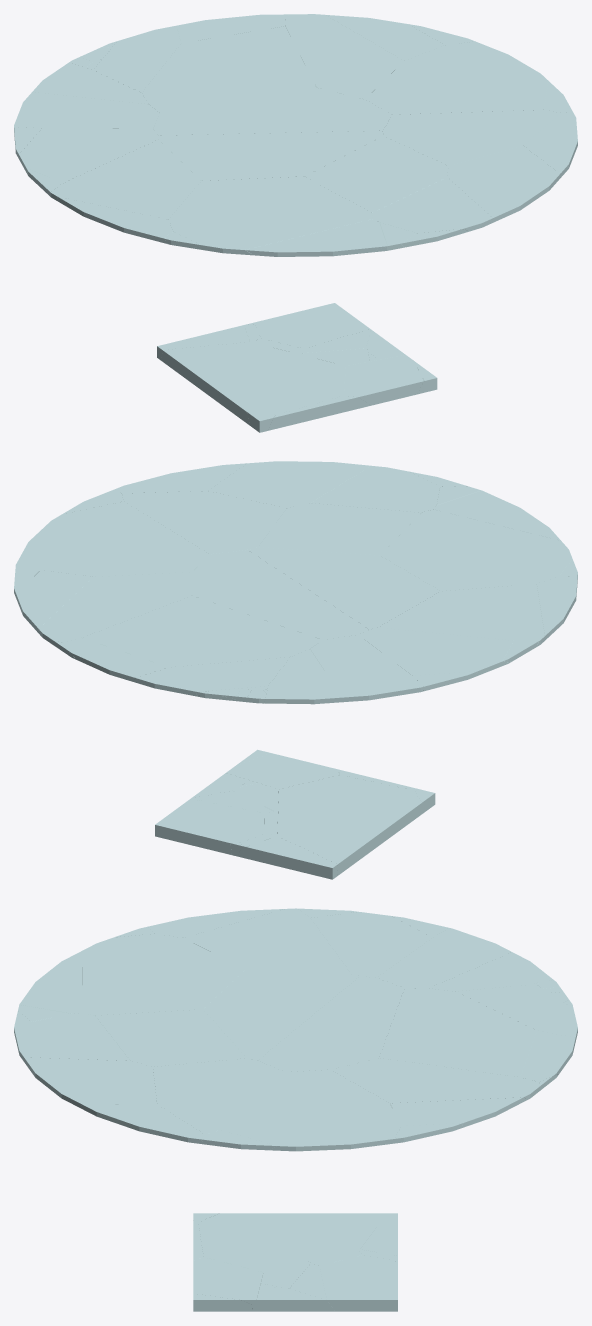
Rendered from Field ground glass  ver3.1.fbx.
3 renders of one model, top to bottom at view 1: azimuth 30°, elevation 25°; view 2: azimuth 150°, elevation 25°; view 3: azimuth 270°, elevation 25°, orthographic.
Visible parts, largest first — view 1: Object_cell.014, Object_cell.019, Object_cell.006, Cylinder.016_cell.006_cell.349, Object_cell, Object_cell.003, Object_cell.015, Object_cell.024, Object_cell.005, Object_cell.009, Object_cell.021, Object_cell.016 (+19 smaller); view 2: Object_cell.014, Object_cell.019, Object_cell.006, Cylinder.016_cell.006_cell.349, Object_cell, Object_cell.003, Object_cell.015, Object_cell.024, Object_cell.005, Object_cell.009, Object_cell.016, Object_cell.021 (+17 smaller); view 3: Object_cell.014, Object_cell.006, Object_cell.019, Cylinder.016_cell.006_cell.349, Object_cell, Object_cell.003, Object_cell.015, Object_cell.024, Object_cell.005, Object_cell.009, Object_cell.021, Object_cell.016 (+18 smaller).
Boxes of the visible parts, x1,y1,x2,y2 form: Object_cell.014: (168, 176, 372, 255); Object_cell.019: (142, 26, 316, 113); Object_cell.006: (365, 41, 548, 114); Cylinder.016_cell.006_cell.349: (161, 342, 345, 425); Object_cell: (153, 87, 391, 135); Object_cell.003: (158, 130, 383, 180); Object_cell.015: (48, 139, 200, 219); Object_cell.024: (382, 110, 560, 165); Object_cell.005: (285, 14, 403, 99); Object_cell.009: (305, 136, 448, 212); Object_cell.021: (447, 146, 560, 223); Object_cell.016: (18, 128, 158, 182); Object_cell.014: (380, 509, 572, 591); Object_cell.019: (82, 595, 322, 667); Object_cell.006: (18, 501, 209, 576); Cylinder.016_cell.006_cell.349: (277, 775, 426, 876); Object_cell: (192, 550, 369, 639); Object_cell.003: (248, 547, 440, 629); Object_cell.015: (378, 584, 545, 646); Object_cell.024: (122, 491, 286, 554); Object_cell.005: (39, 572, 192, 644); Object_cell.009: (258, 503, 421, 555); Object_cell.016: (358, 627, 513, 676); Object_cell.021: (208, 461, 371, 507); Object_cell.014: (82, 933, 245, 1015); Object_cell.006: (220, 1069, 401, 1151); Object_cell.019: (379, 988, 536, 1076); Cylinder.016_cell.006_cell.349: (198, 1213, 386, 1272); Object_cell: (258, 976, 404, 1071); Object_cell.003: (203, 969, 359, 1060); Object_cell.015: (183, 908, 351, 974); Object_cell.024: (153, 1058, 285, 1134); Object_cell.005: (331, 1058, 541, 1103); Object_cell.009: (95, 1009, 246, 1066); Object_cell.021: (22, 1057, 156, 1108); Object_cell.016: (311, 912, 432, 977).
Size of the model in its own units: 2204 by 1055 by 2204.
